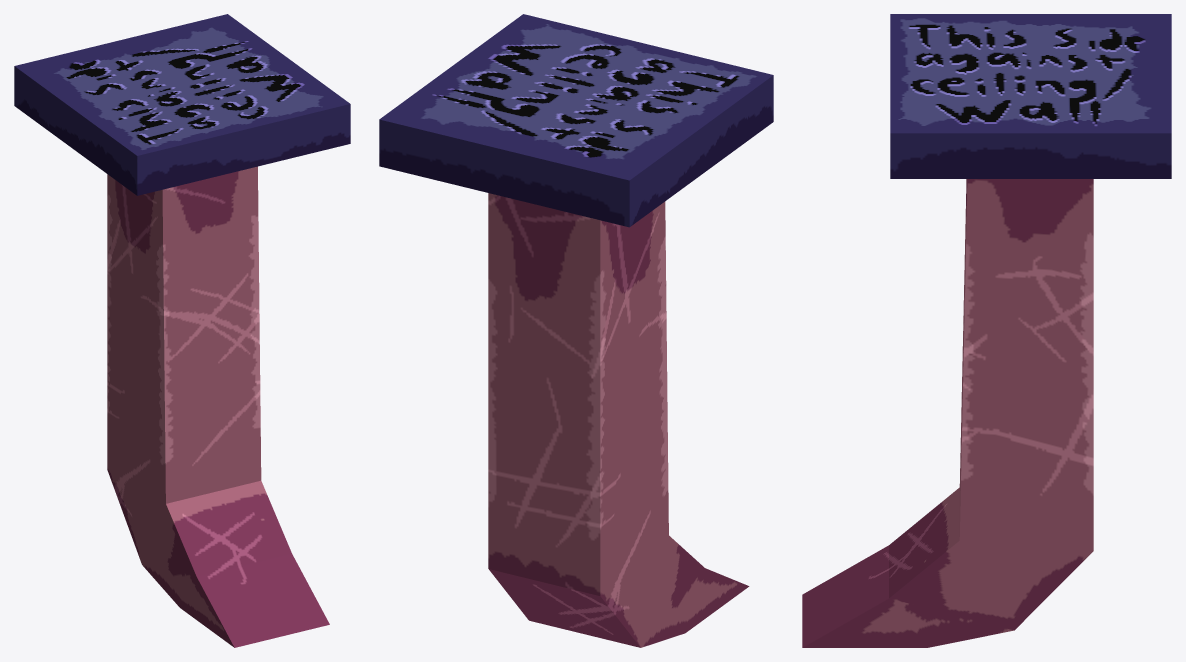
The model's file is Security Camera stand model.fbx.
3 renders of one model, left to right at view 1: azimuth 30°, elevation 25°; view 2: azimuth 150°, elevation 25°; view 3: azimuth 270°, elevation 25°, orthographic. The views are drawn at different scales.
Parts seen in each view (by area): view 1: Object001; view 2: Object001; view 3: Object001.
Part boxes in pixels (x1,y1,x2,y2): Object001: (14, 14, 350, 647); Object001: (379, 14, 773, 647); Object001: (802, 14, 1171, 647).
Size of the model in its own units: 6.16 by 13.19 by 8.06.
1 material, 1 textured.
